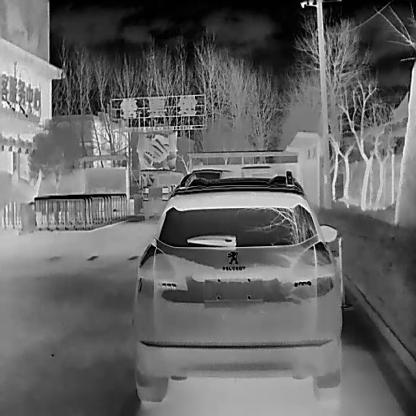bus: (240, 164, 272, 175)
car: (135, 171, 348, 403), (138, 167, 182, 221)
